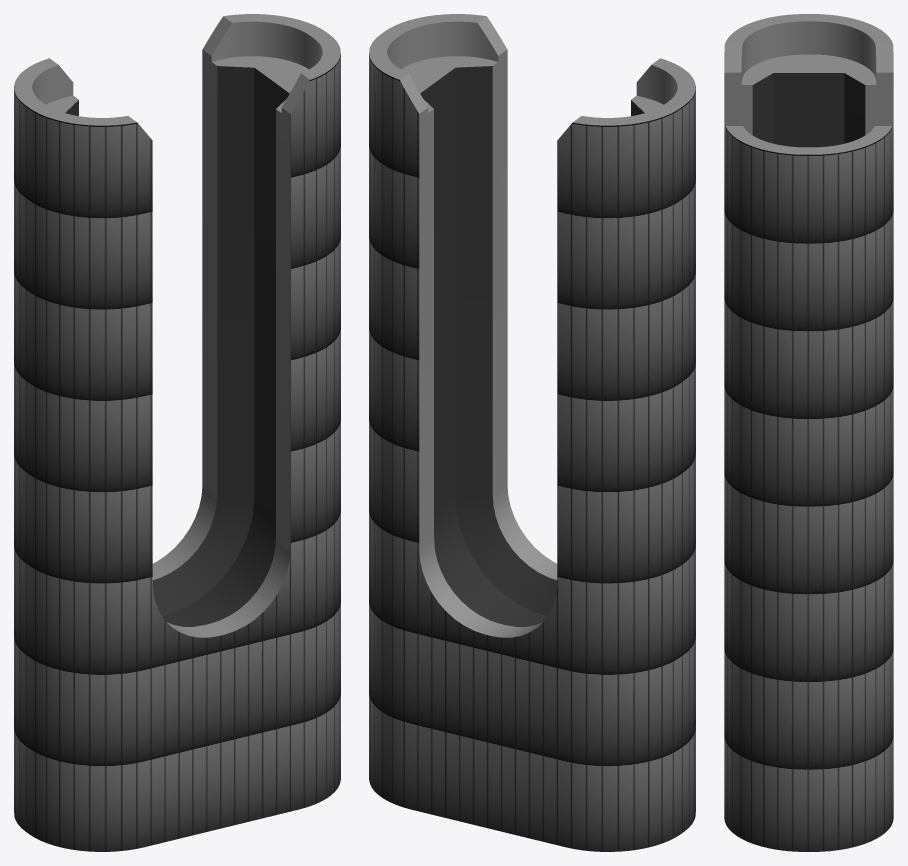
File: build3.gltf
3 renders of one model, left to right at view 1: azimuth 30°, elevation 25°; view 2: azimuth 150°, elevation 25°; view 3: azimuth 270°, elevation 25°, orthographic. The views are drawn at different scales.
Parts seen in each view (by area): view 1: Object_110.001; view 2: Object_110.001; view 3: Object_110.001.
Part boxes in pixels (box(x1,y1,x2,y2)): Object_110.001: box(14, 14, 340, 851); Object_110.001: box(369, 14, 695, 851); Object_110.001: box(724, 14, 893, 851).
Size of the model in its own units: 8.24 by 19.02 by 4.19.
Materials: 3 (2 with a texture image).
